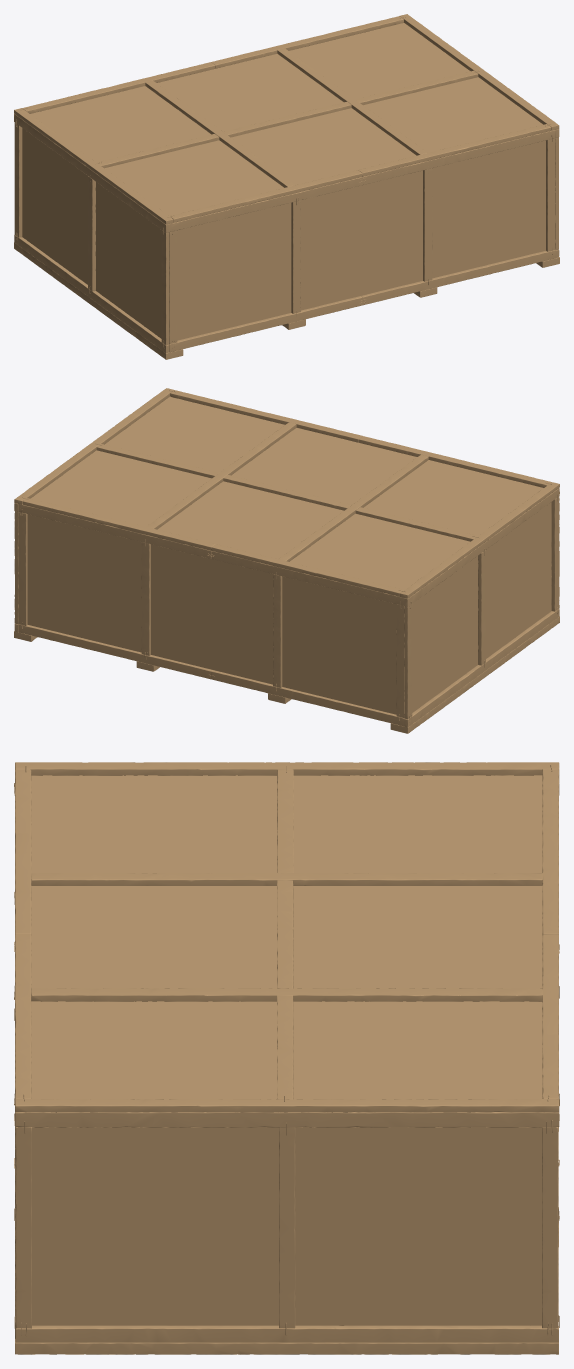
File: crate_plywood_b06.glb
The picture shows the model from 3 angles, top to bottom: view 1: azimuth 30°, elevation 25°; view 2: azimuth 150°, elevation 25°; view 3: azimuth 270°, elevation 25°; orthographic projection. The views are drawn at different scales.
Size of the model in its own units: 3 by 1.02 by 2.01.
